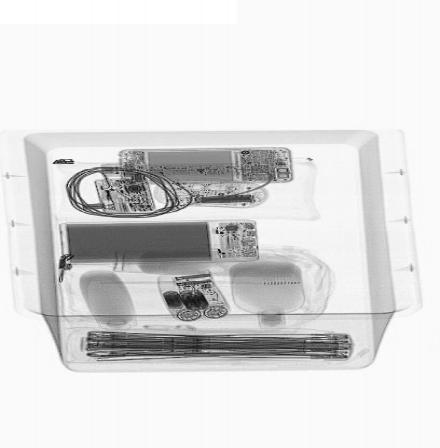Powerbank: (54, 219, 264, 262)
